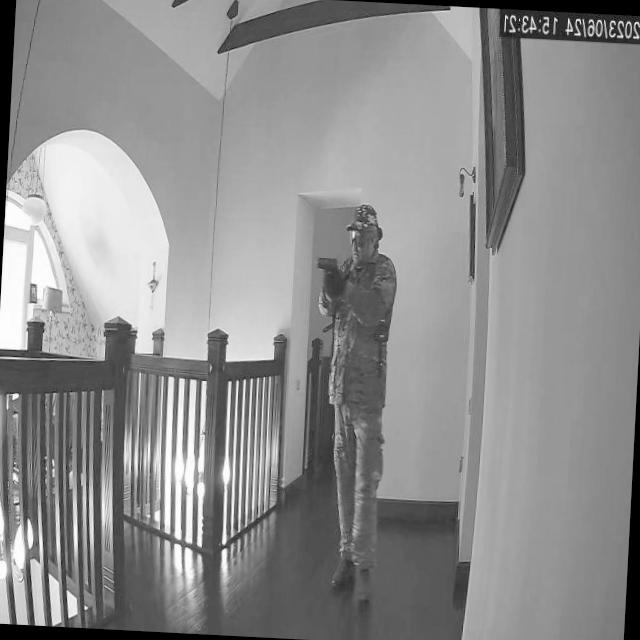gun: (314, 254, 340, 287)
person with a gun: (320, 202, 398, 604)
